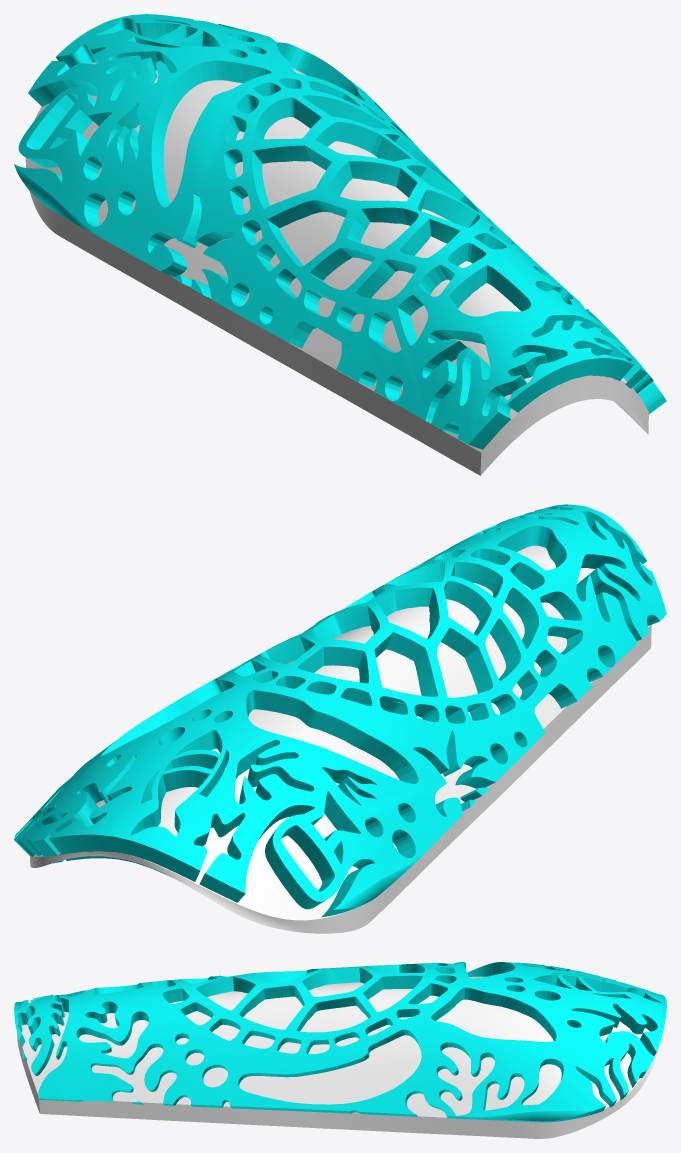
Rendered from turtles-reef-coffin-full.glb.
The picture shows the model from 3 angles, top to bottom: view 1: azimuth 30°, elevation 25°; view 2: azimuth 150°, elevation 25°; view 3: azimuth 270°, elevation 25°; orthographic projection. The views are drawn at different scales.
Bounding box in the file's own units: 0.0146 × 0.00676 × 0.0354.
